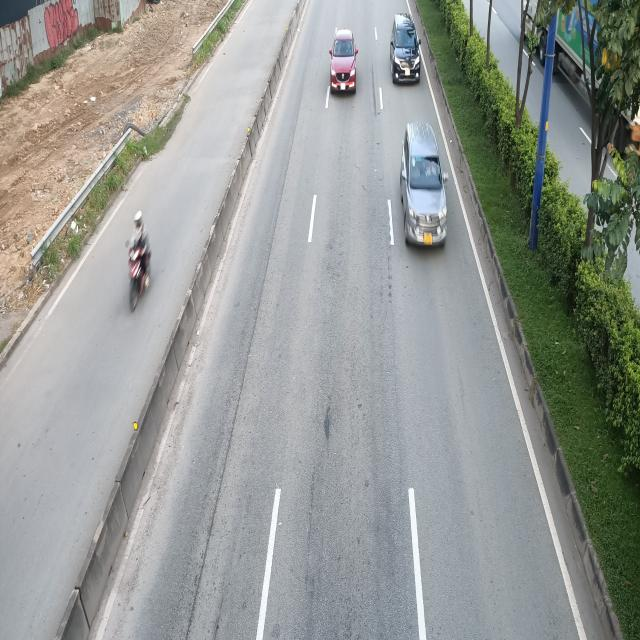car: (400, 124, 447, 251), (392, 14, 423, 86), (330, 28, 360, 94)
